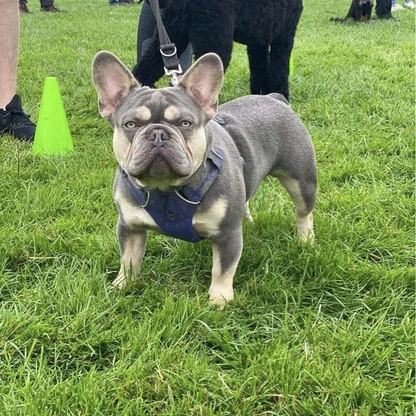bulldog: (91, 49, 321, 306)
